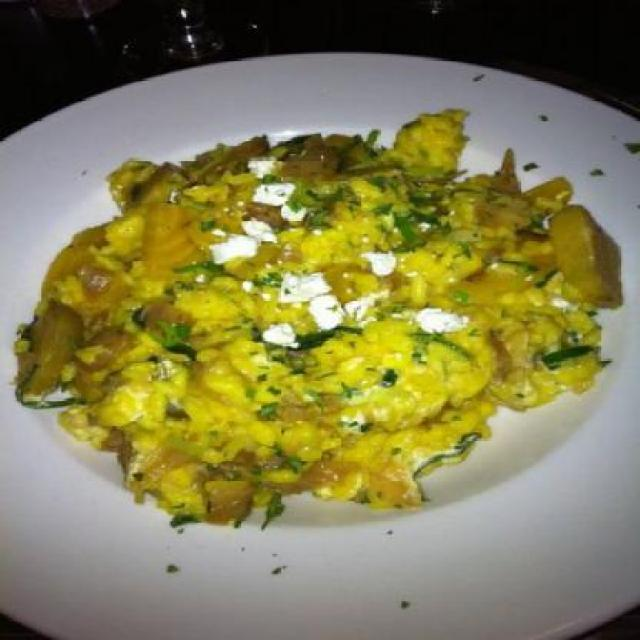Risotto: (53, 138, 602, 497)
